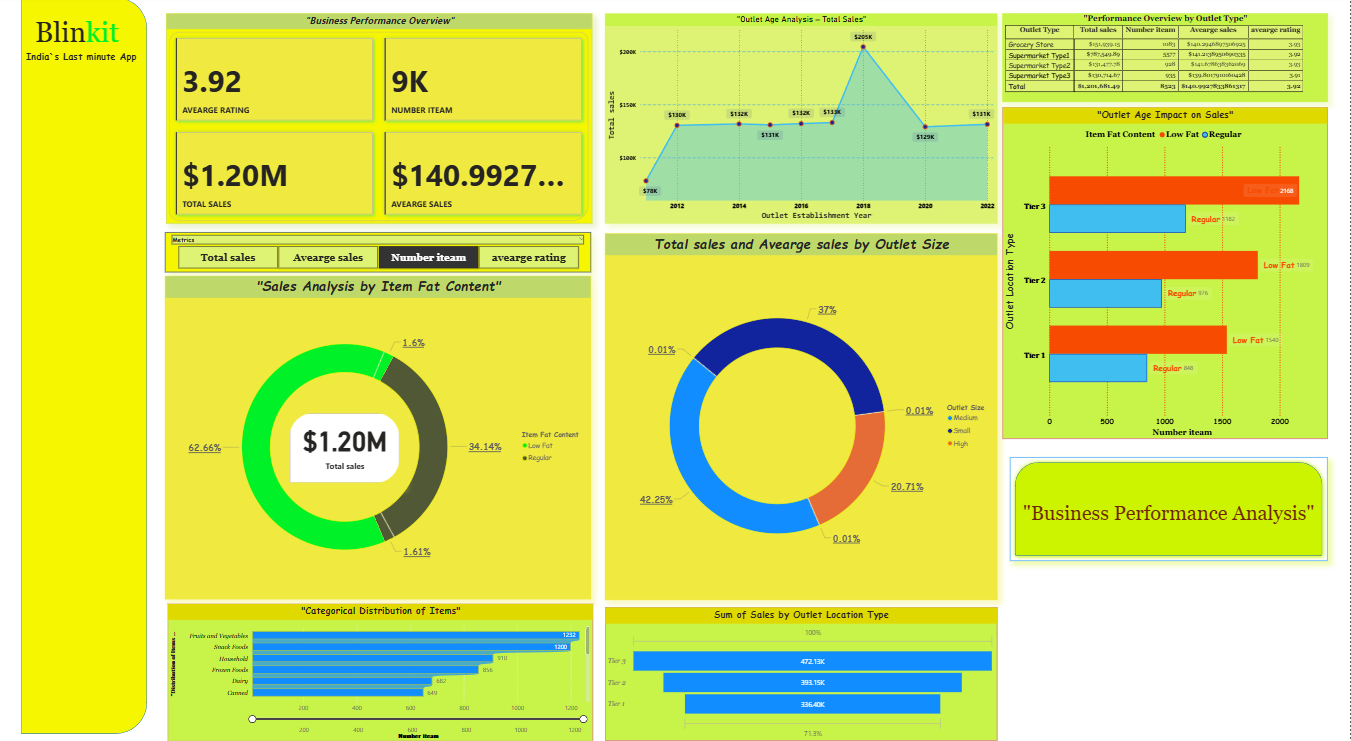

Layout of this report page (visuals, bound fields, positions):
{"tool":"powerbi","page":{"name":"Page 1","canvas":[2700,1500],"ordinal":0},"visuals":[{"type":"shape","title":"Blinkit","box":[41.7,13.3,251.7,1473.3],"z":0},{"type":"textbox","box":[65,45,181.7,85],"z":1000},{"type":"cardVisual","title":"\"Business Performance Overview\"","fields":{"Data":["BlinkIT Grocery Data.avearge rating","BlinkIT Grocery Data.Number iteam","BlinkIT Grocery Data.Total sales","BlinkIT Grocery Data.Avearge sales"]},"box":[331.7,45,851.7,420],"z":2000},{"type":"slicer","fields":{"Values":["Metrics.Metrics"]},"box":[330,483.3,851.7,80],"z":3000},{"type":"donutChart","title":"\"Sales Analysis by Item Fat Content\"","fields":{"Y":["BlinkIT Grocery Data.Number iteam","BlinkIT Grocery Data.Avearge sales"],"Category":["BlinkIT Grocery Data.Item Fat Content"]},"box":[330,570,851.7,646.7],"z":4000},{"type":"clusteredBarChart","title":"\"Outlet Age Impact on Sales\"","fields":{"Y":["BlinkIT Grocery Data.Number iteam"],"Category":["BlinkIT Grocery Data.Outlet Location Type"],"Series":["BlinkIT Grocery Data.Item Fat Content"]},"box":[2004.7,231.3,650,663.3],"z":5000},{"type":"barChart","title":"\"Categorical Distribution of Items\"","fields":{"Y":["BlinkIT Grocery Data.Number iteam"],"Category":["BlinkIT Grocery Data.Item Type"]},"box":[333.8,1223.8,851.2,276.2],"z":6000},{"type":"areaChart","title":"\"Outlet Age Analysis – Total Sales\"","fields":{"Y":["BlinkIT Grocery Data.Total sales"],"Category":["BlinkIT Grocery Data.Outlet Establishment Year"]},"box":[1208.8,45,785,420],"z":7000},{"type":"donutChart","fields":{"Y":["BlinkIT Grocery Data.Total sales","BlinkIT Grocery Data.Avearge sales"],"Category":["BlinkIT Grocery Data.Outlet Size","BlinkIT Grocery Data.Item Fat Content"]},"box":[1208.8,483.8,785,732.5],"z":8000},{"type":"funnel","fields":{"Y":["Sum(BlinkIT Grocery Data.Sales)"],"Category":["BlinkIT Grocery Data.Outlet Location Type"]},"box":[1210,1232.5,785,267.5],"z":9000},{"type":"pivotTable","title":"\"Performance Overview by Outlet Type\"","fields":{"Rows":["BlinkIT Grocery Data.Outlet Type"],"Values":["BlinkIT Grocery Data.Total sales","BlinkIT Grocery Data.Number iteam","BlinkIT Grocery Data.Avearge sales","BlinkIT Grocery Data.avearge rating"]},"box":[2004.3,44.3,650,177.1],"z":10000},{"type":"cardVisual","fields":{"Data":["BlinkIT Grocery Data.Total sales"]},"box":[573.3,836.7,233.3,153.3],"z":11000},{"type":"textbox","box":[47.5,111.2,308.8,58.8],"z":12000},{"type":"textbox","box":[2005,990,695,95],"z":12001},{"type":"shape","box":[2020,932.5,635,207.5],"z":12002}]}

Visuals, with their boxes in screenshot pixels (x1, y1, x2, y2), scaled from the page's 2700x1500 canvas onto the 1351x741 screenshot:
"Blinkit" shape: {"left": 21, "top": 7, "right": 147, "bottom": 734}
textbox: {"left": 33, "top": 22, "right": 123, "bottom": 64}
""Business Performance Overview"" cardVisual: {"left": 166, "top": 22, "right": 592, "bottom": 230}
slicer - Metrics.Metrics: {"left": 165, "top": 239, "right": 591, "bottom": 278}
""Sales Analysis by Item Fat Content"" donutChart: {"left": 165, "top": 282, "right": 591, "bottom": 601}
""Outlet Age Impact on Sales"" clusteredBarChart: {"left": 1003, "top": 114, "right": 1328, "bottom": 442}
""Categorical Distribution of Items"" barChart: {"left": 167, "top": 605, "right": 593, "bottom": 740}
""Outlet Age Analysis – Total Sales"" areaChart: {"left": 605, "top": 22, "right": 998, "bottom": 230}
donutChart - BlinkIT Grocery Data.Total sales x BlinkIT Grocery Data.Avearge sales: {"left": 605, "top": 239, "right": 998, "bottom": 601}
funnel - Sum(BlinkIT Grocery Data.Sales) x BlinkIT Grocery Data.Outlet Location Type: {"left": 605, "top": 609, "right": 998, "bottom": 740}
""Performance Overview by Outlet Type"" pivotTable: {"left": 1003, "top": 22, "right": 1328, "bottom": 109}
cardVisual - BlinkIT Grocery Data.Total sales: {"left": 287, "top": 413, "right": 404, "bottom": 489}
textbox: {"left": 24, "top": 55, "right": 178, "bottom": 84}
textbox: {"left": 1003, "top": 489, "right": 1350, "bottom": 536}
shape: {"left": 1011, "top": 461, "right": 1328, "bottom": 563}
